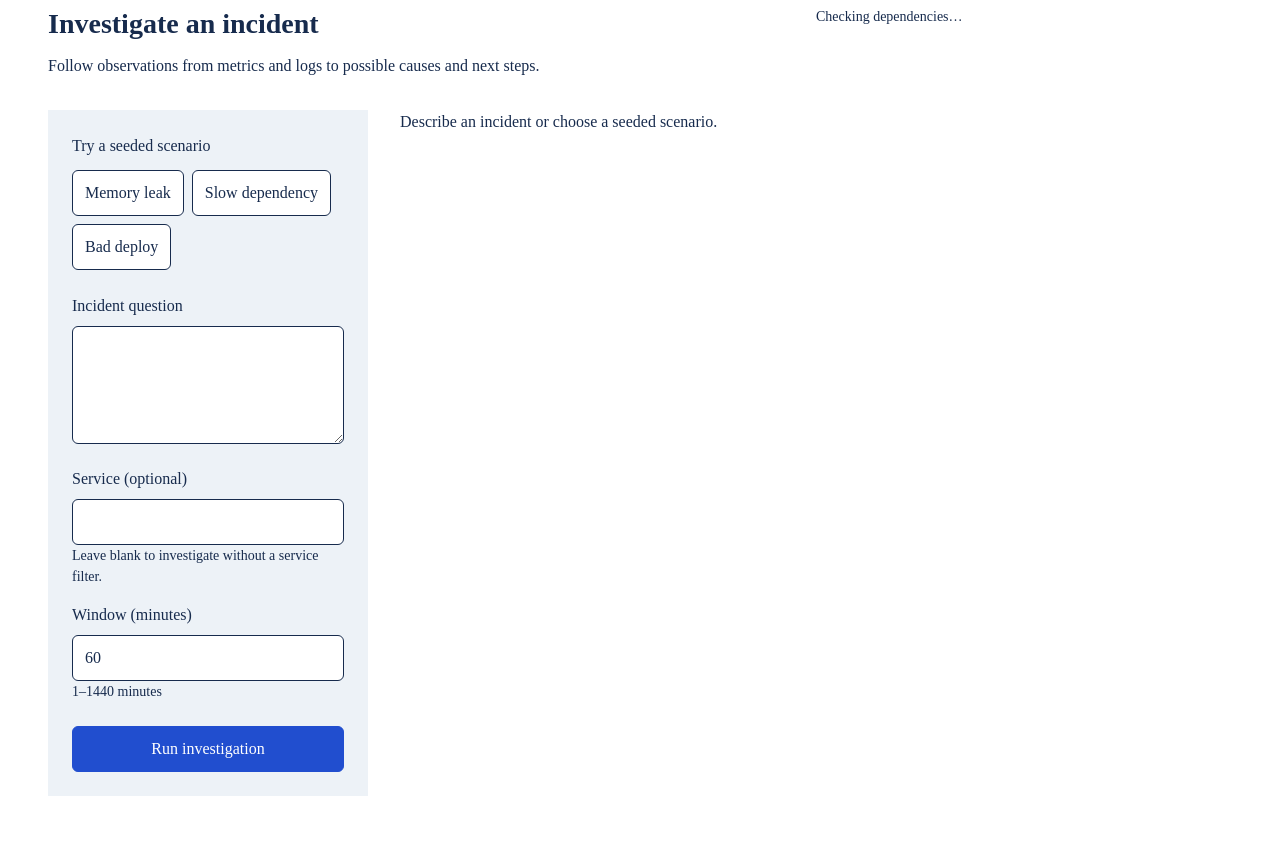
Test case: blank report fields and empty evidence are explicit without inventing content
Click the button "Slow dependency". click: [261, 193]
box: [192,170,331,216]
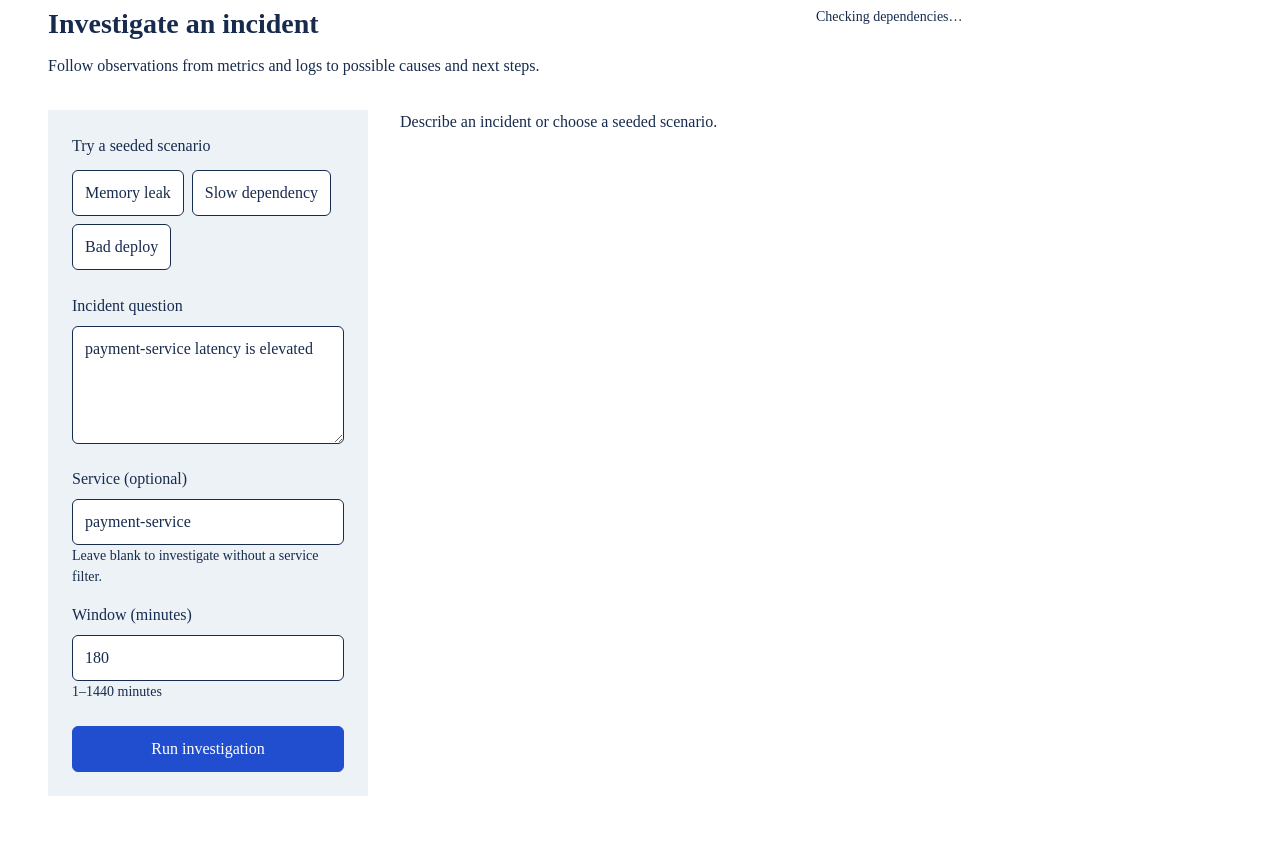
Click the button "Run investigation". click: [208, 749]
box: [72,726,344,772]
(page scrolled)
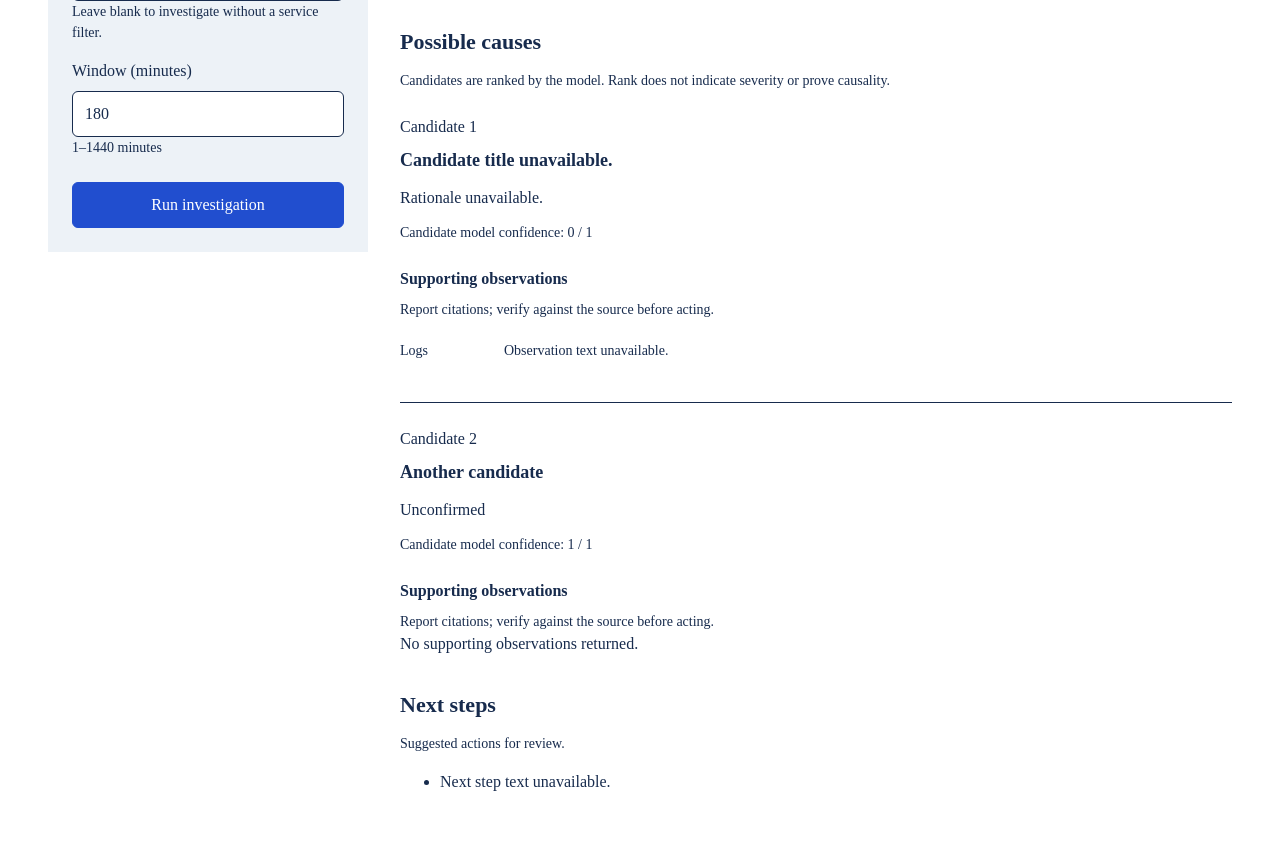
Expected: the heading "Candidate title unavailable." is shown, [400,150,612,170]
Expected: the text "Rationale unavailable." is shown, [400,189,543,206]
Expected: the text "Observation text unavailable." is shown, [504,343,668,358]
